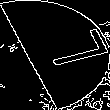L_W: (13, 32, 97, 78)
